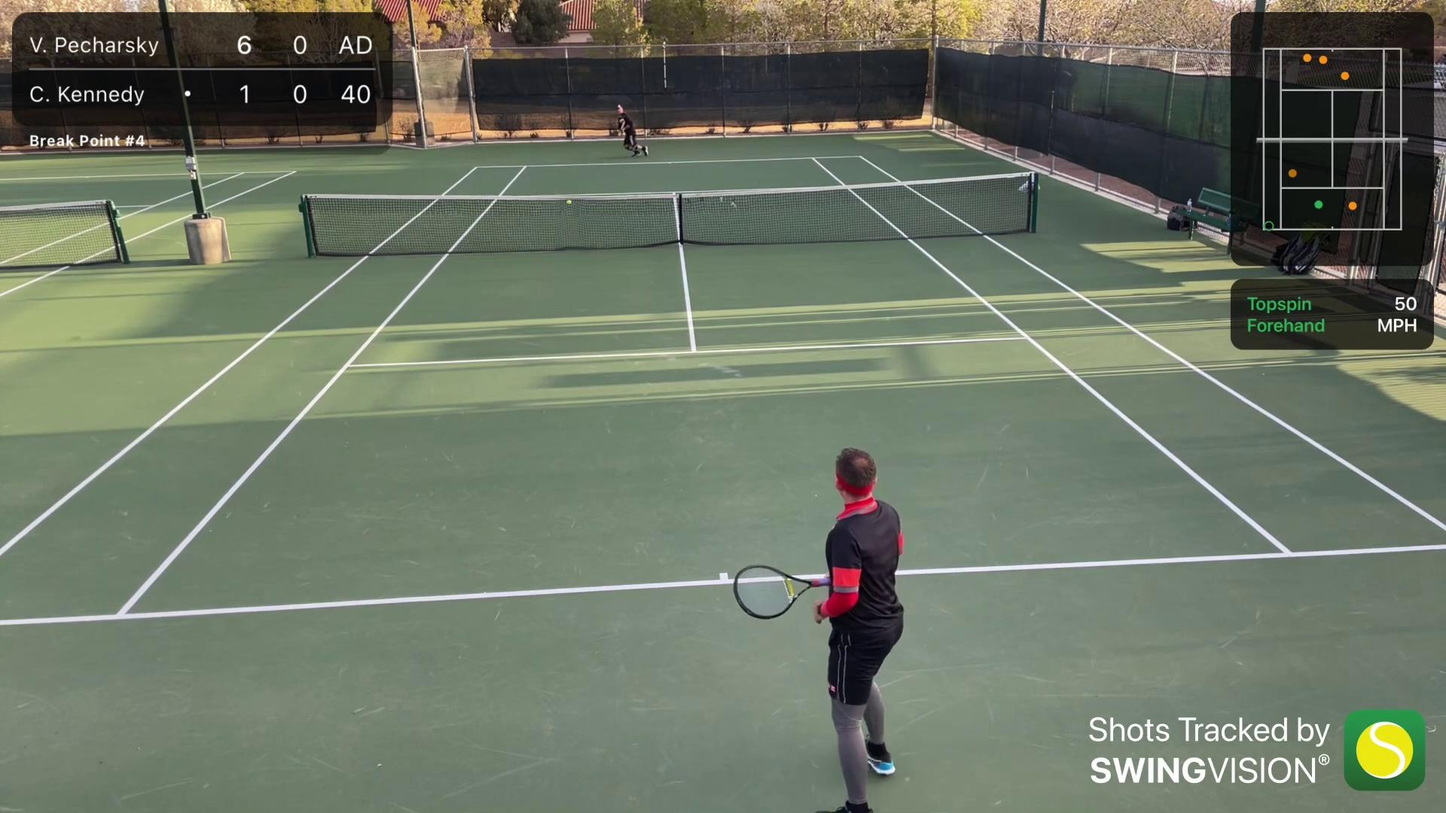ball: (564, 199, 572, 205)
